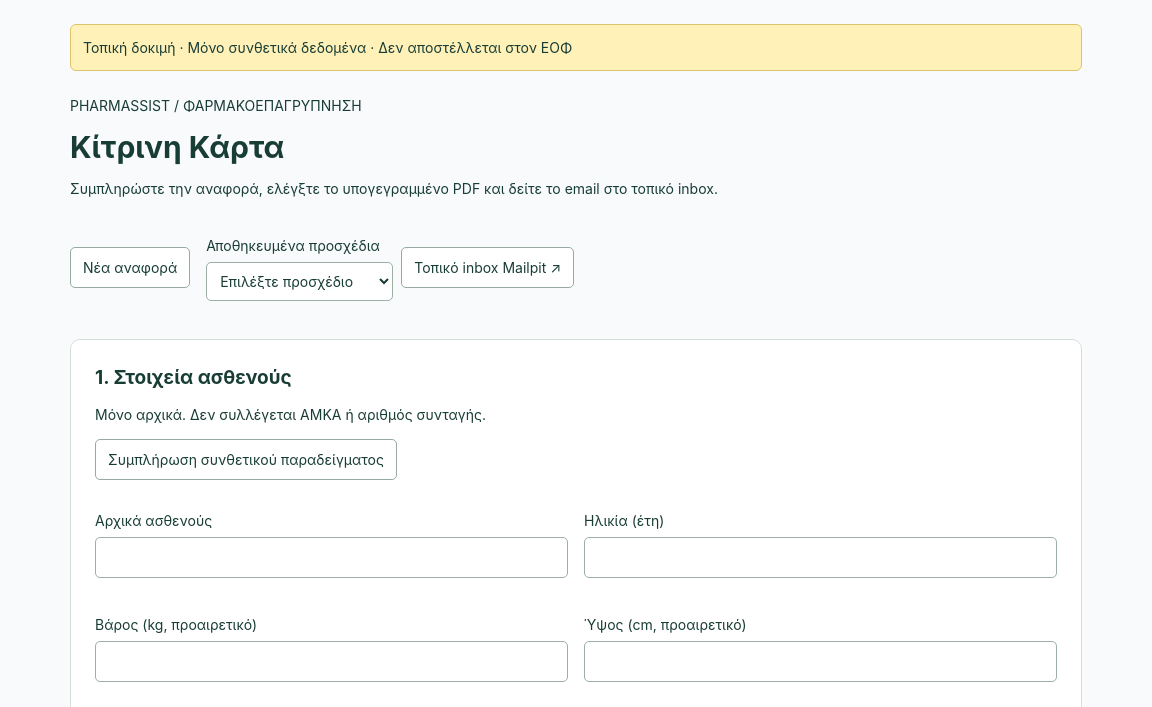
Test: Yellow Card reporter role › saves a listed legacy draft as private pharmacist at its revision
Select "Σ.Δ. · 2026-10-22 · v3" in the dropdown labelled "Αποθηκευμένα προσχέδια": (300, 281) [206,262,393,301]
(page scrolled)
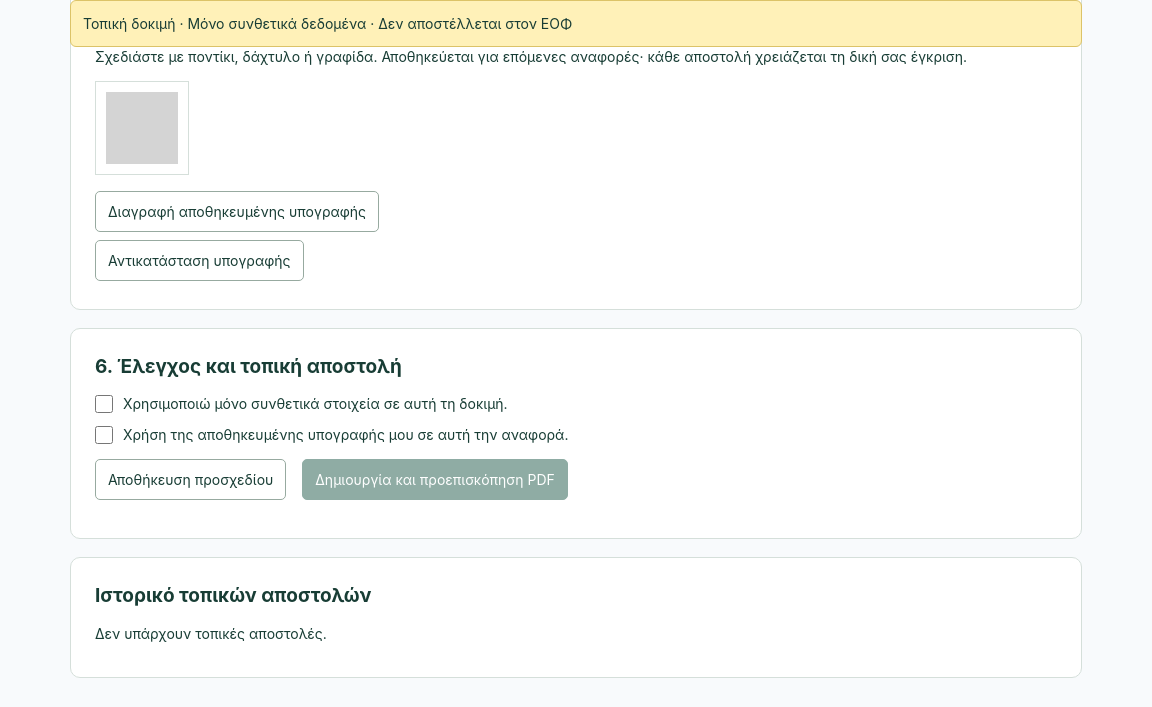
Click the button "Αποθήκευση προσχεδίου": (191, 480) [95,459,286,500]
(page scrolled)
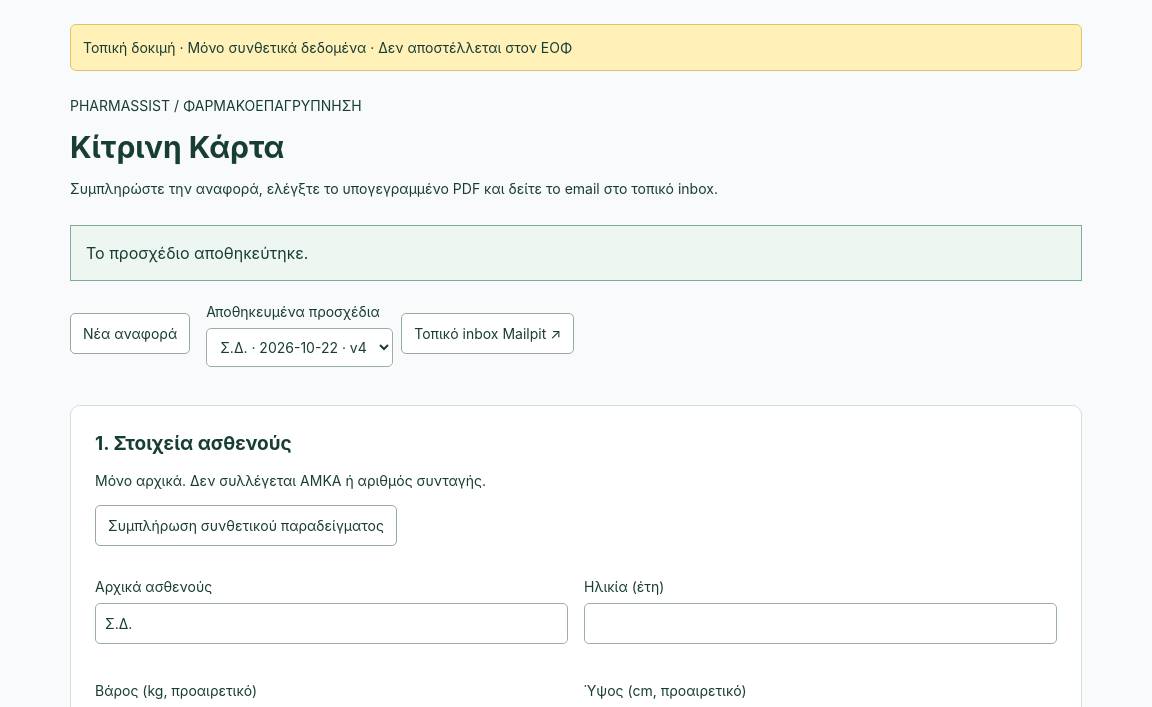
Now the text "Το προσχέδιο αποθηκεύτηκε." is shown, box [70,225,1082,281]
